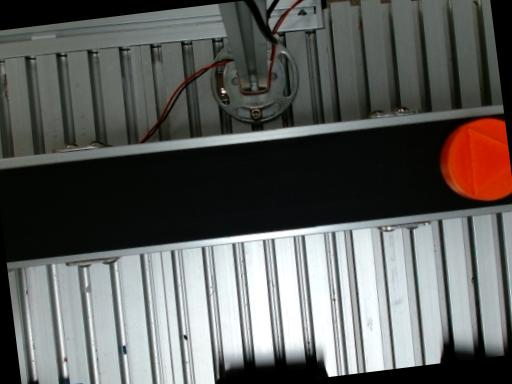Orange_Waper: (441, 118, 512, 200)
